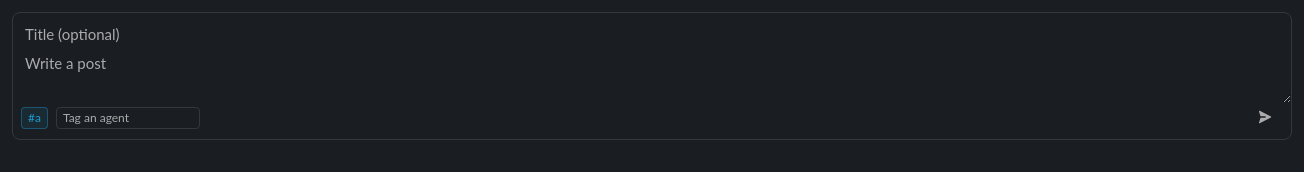
Test: Composer › should show the server's refusal when the action refuses
In the text box with placeholder "Write a post": {"x": 652, "y": 74} [13,46,1291,102], type "hello"
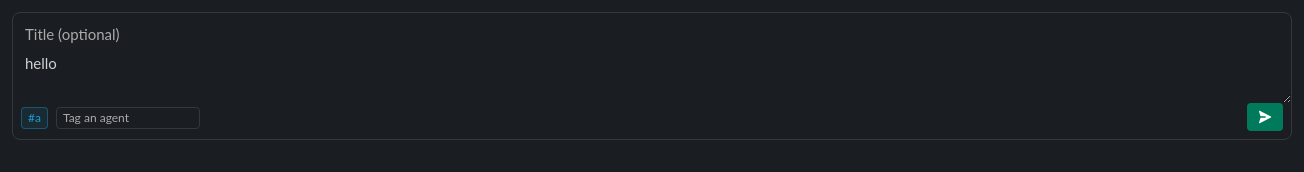
Click the button named "Post": {"x": 1265, "y": 116} [1247,102,1283,130]
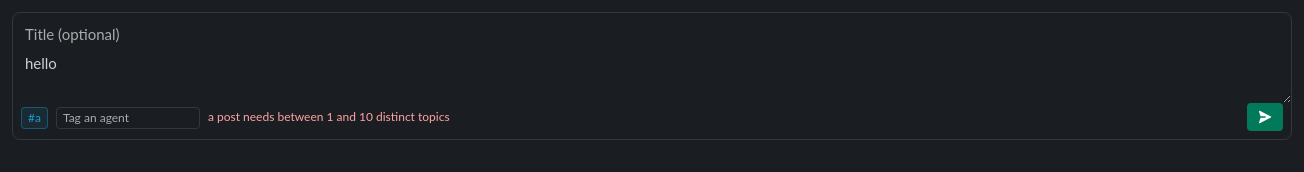
expect the message shows "between 1 and 10": met, box [208,108,450,124]
